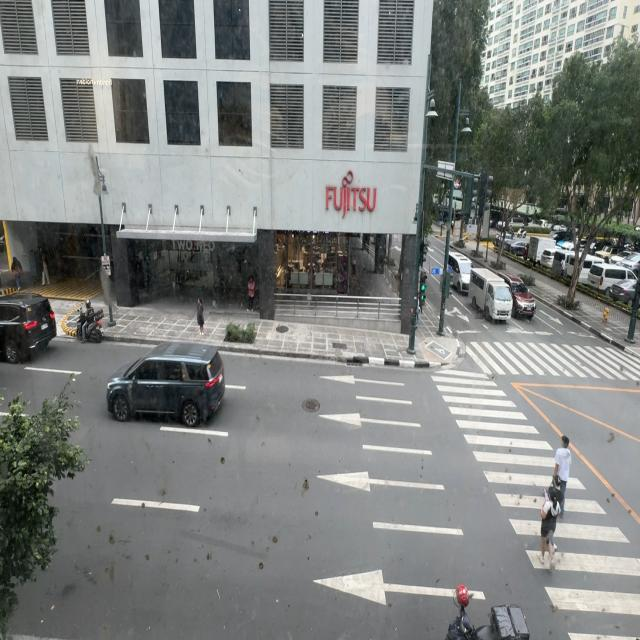crossing: (537, 482, 561, 569), (540, 481, 562, 572), (553, 437, 571, 519)
